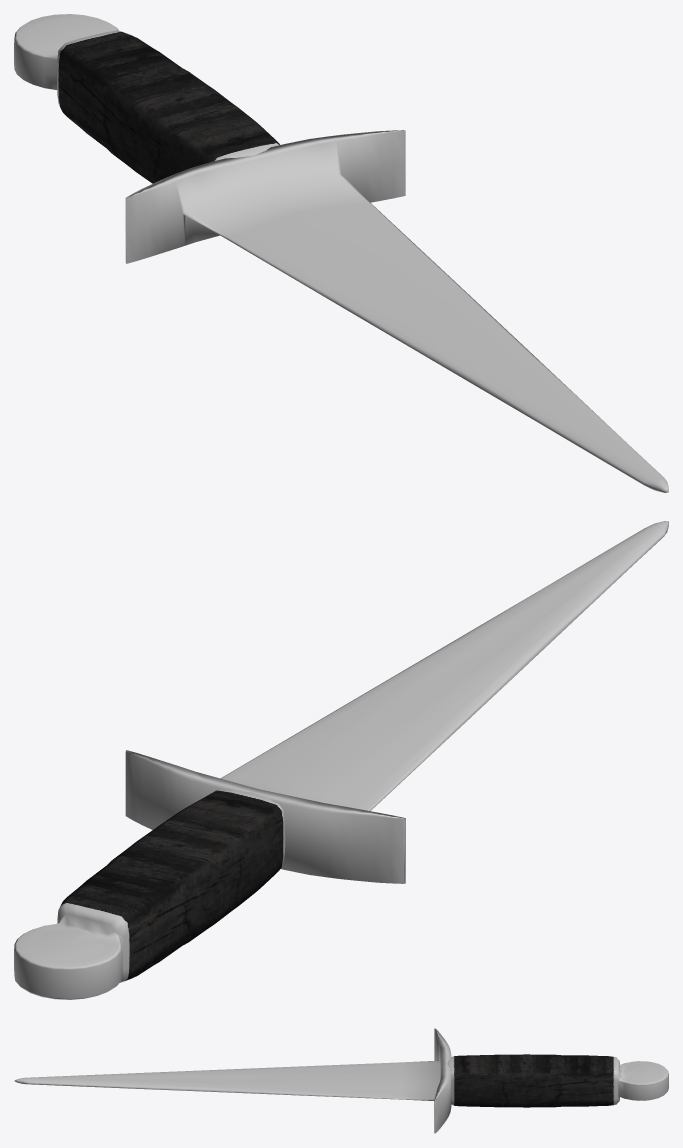
File: daga.fbx
3 views of the same model, one above another, from view 1: azimuth 30°, elevation 25°; view 2: azimuth 150°, elevation 25°; view 3: azimuth 270°, elevation 25° (orthographic). The views are drawn at different scales.
Parts seen in each view (by area): view 1: Dagger; view 2: Dagger; view 3: Dagger.
Boxes of the visible parts, x1,y1,x2,y2 form: Dagger: (14, 14, 668, 492); Dagger: (14, 521, 668, 999); Dagger: (14, 1028, 668, 1133).
Size of the model in its own units: 11.59 by 2.73 by 45.09.
Materials: 2 (2 with a texture image).
